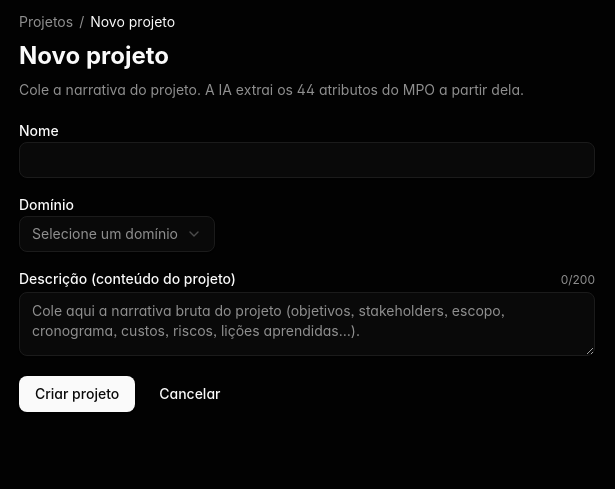
Scenario: ProjectCreatePage › blocks submit and shows validation errors when fields are invalid
This screenshot has width=615, height=489.
Step 1. Type "curto demais" into the text box labelled "Descrição (conteúdo do projeto)" → (307, 324), box [19,292,595,356]
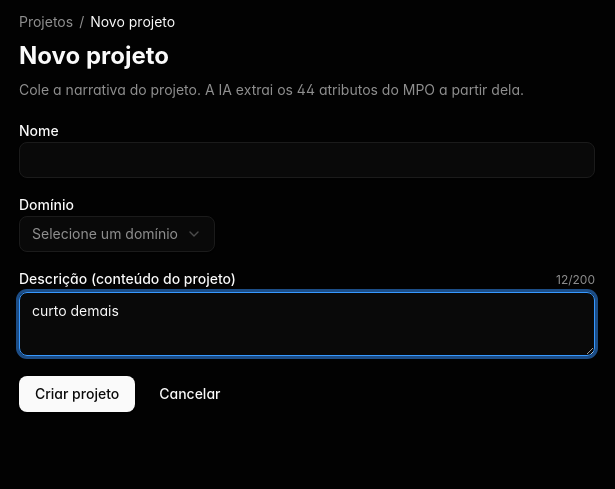
Step 2. Click the button "Criar projeto" → (77, 394), box [19,376,135,412]
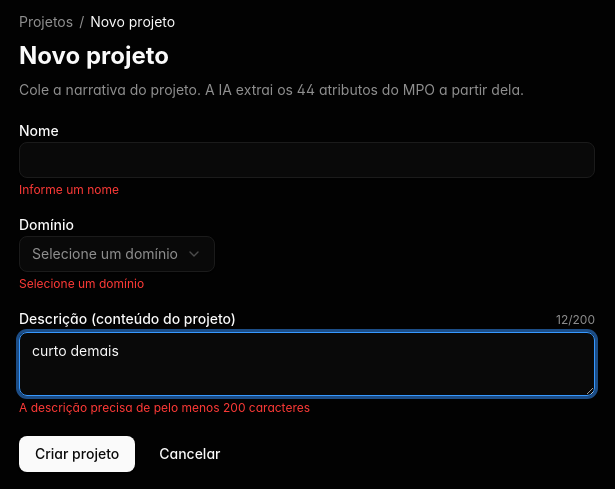
Check: the text "Informe um nome" is shown, box [19,182,119,197]
Check: the text "A descrição precisa de pelo menos 200 caracteres" is shown, box [19,400,310,415]
